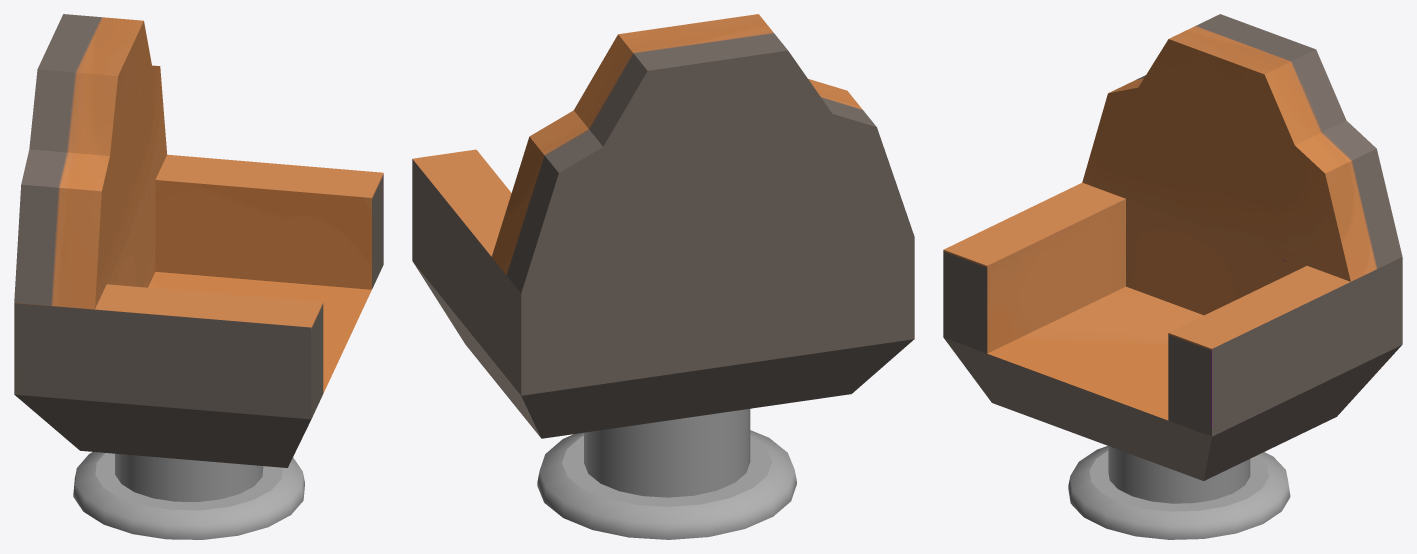
File: Chair.fbx
3 views of the same model, side by side, from view 1: azimuth 30°, elevation 25°; view 2: azimuth 150°, elevation 25°; view 3: azimuth 270°, elevation 25° (orthographic). The views are drawn at different scales.
Visible parts, largest first — view 1: Stool, Seat; view 2: Stool, Seat; view 3: Stool, Seat.
Part boxes in pixels (<box>): Stool: <box>14,14,383,467</box>; Seat: <box>73,452,304,539</box>; Stool: <box>412,14,914,438</box>; Seat: <box>537,409,796,539</box>; Stool: <box>943,14,1402,480</box>; Seat: <box>1068,446,1290,539</box>.
Size of the model in its own units: 8.35 by 8.51 by 8.47.
